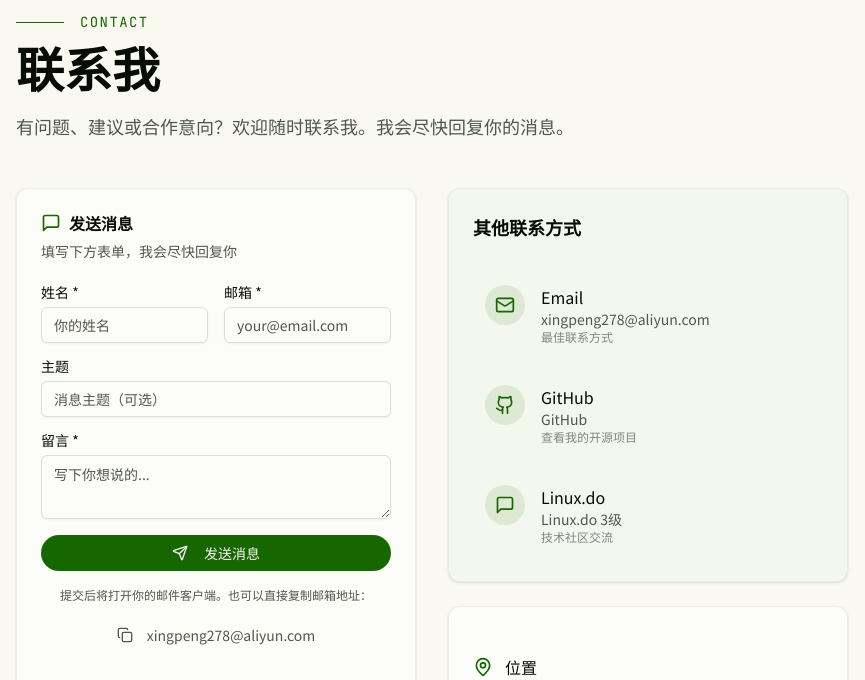
Test case: F11: 邮箱格式校验（validation.ts 单元 + Contact/Newsletter 集成） › Contact: 修正邮箱后行内错误应即时消失
Type "张三" into the field labelled "姓名 *" at (124, 325), box [41,307,208,343]
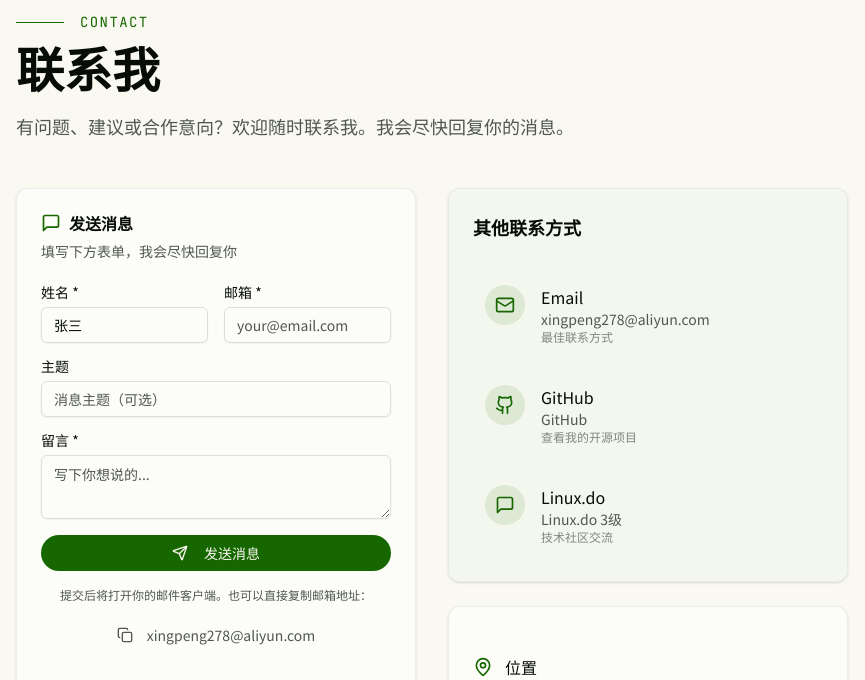
Type "bad" into the field labelled "邮箱 *" at (308, 325), box [224,307,391,343]
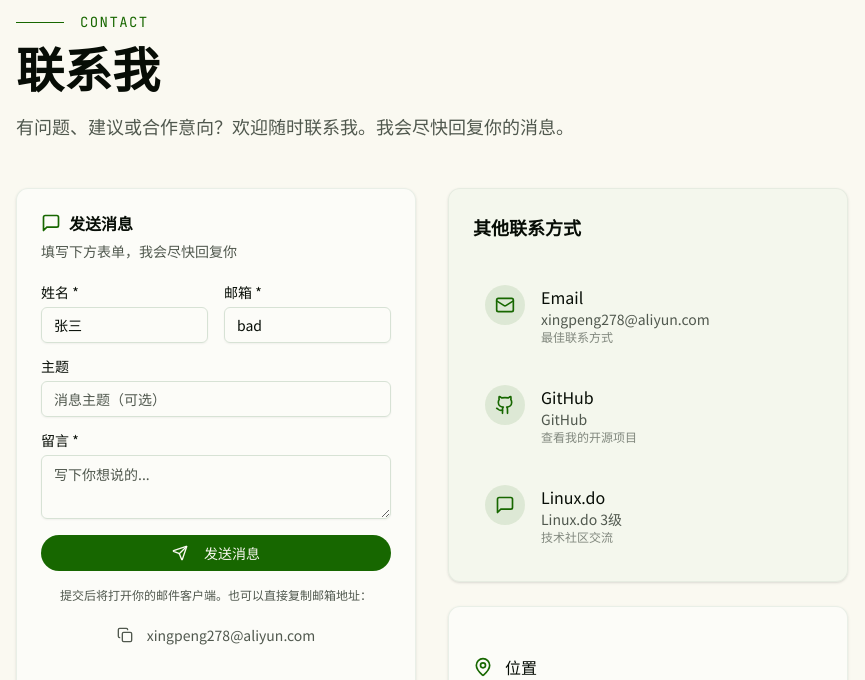
Type "留言" into the text box labelled "留言 *" at (216, 487), box [41,455,391,519]
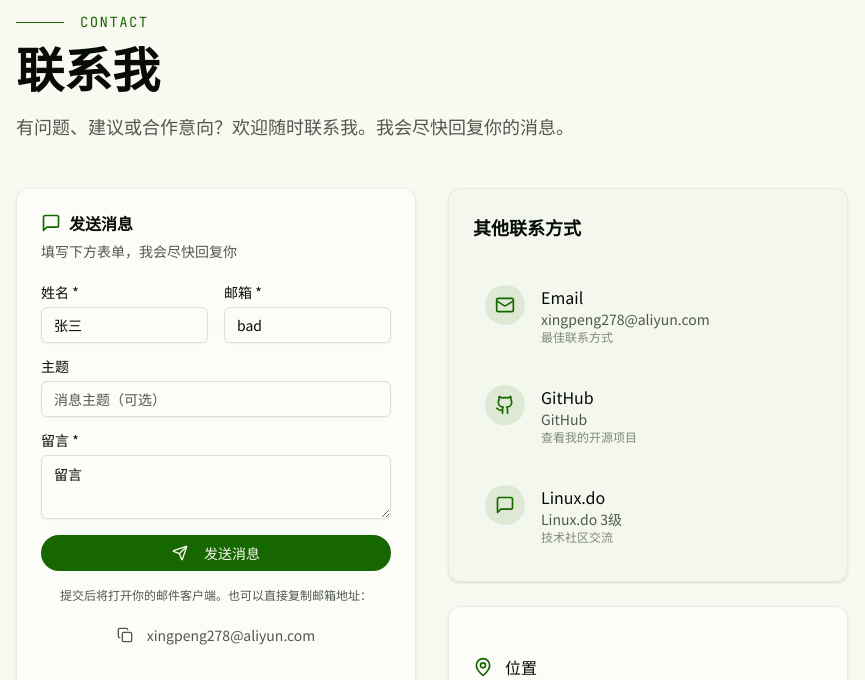
Submit the form "发送消息", box [41,285,391,651]
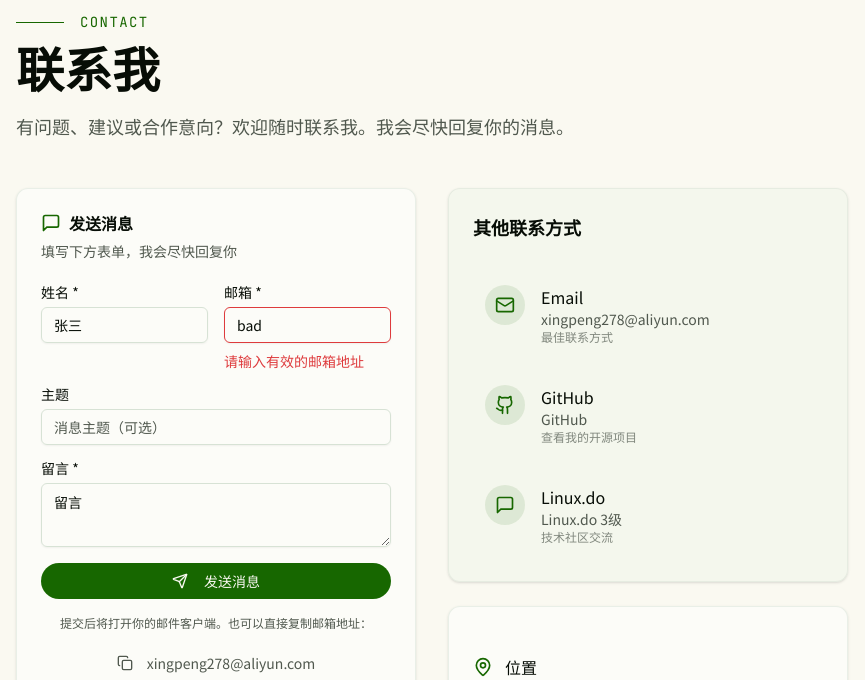
Check: the text "请输入有效的邮箱地址" is shown, box [224,351,364,371]
Replace the text in the field labelled "邮箱 *" with "good@example.com" at (308, 325), box [224,307,391,343]
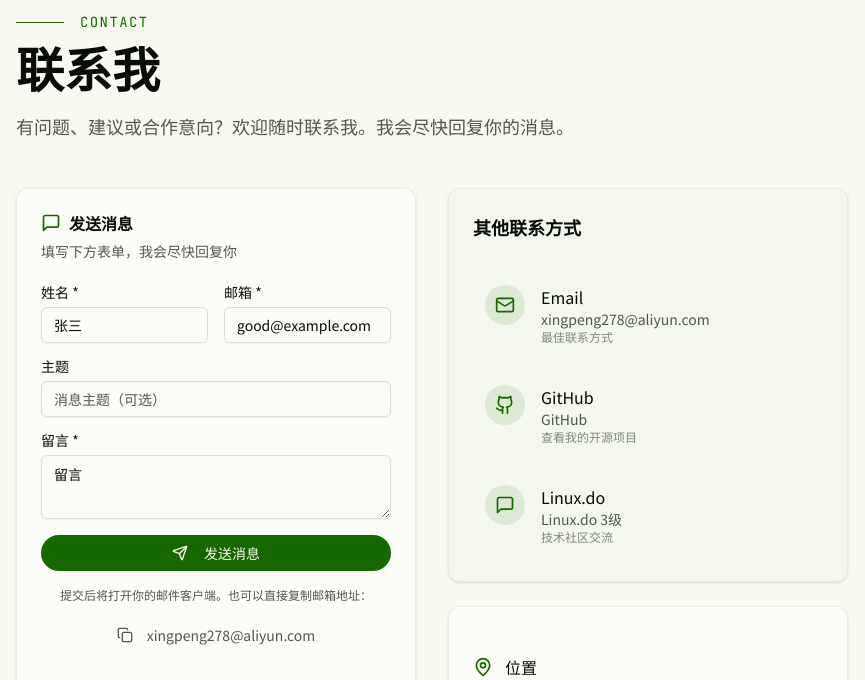
Check: the text "请输入有效的邮箱地址" is gone
